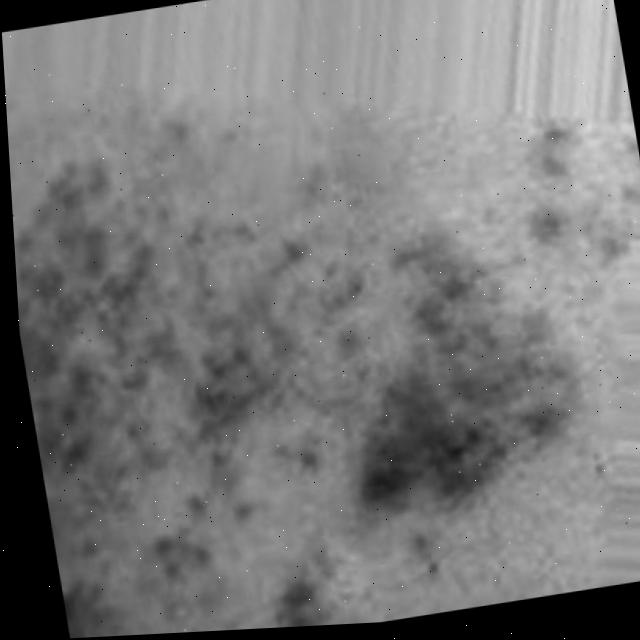Shingles: (6, 63, 640, 640)
